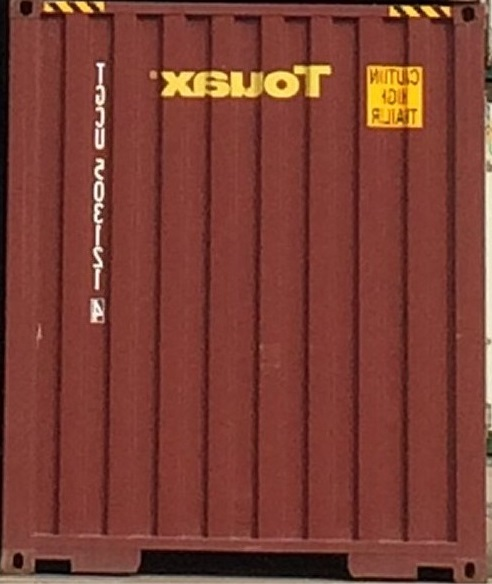container_no_door: (7, 2, 487, 584)
